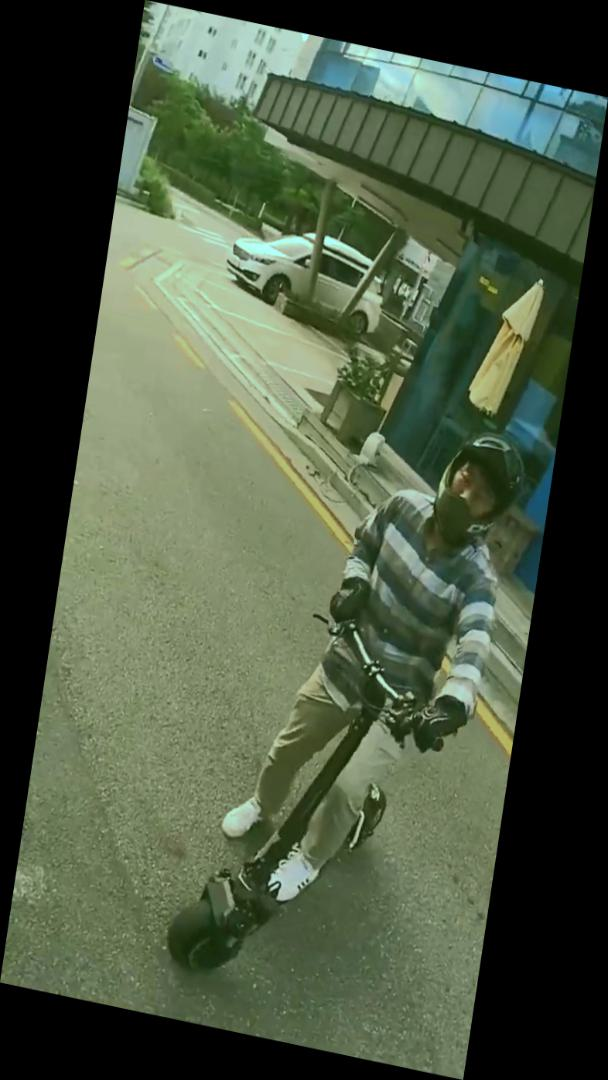helmet: (157, 380, 537, 1032)
